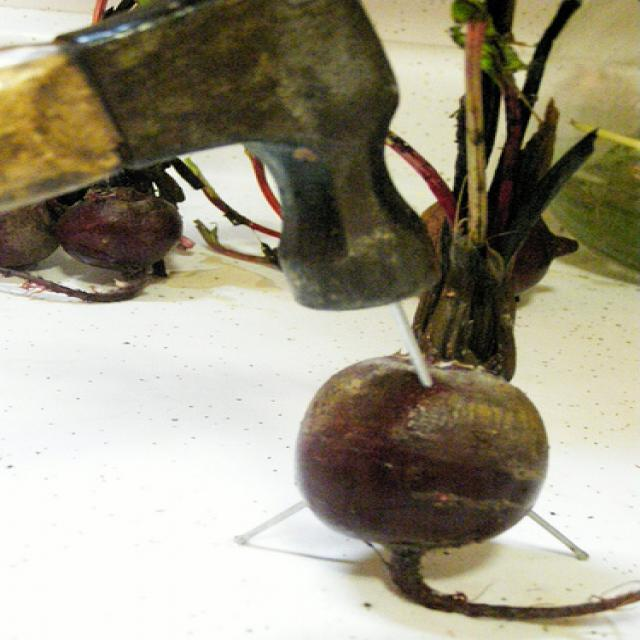hammer: (0, 0, 454, 317)
